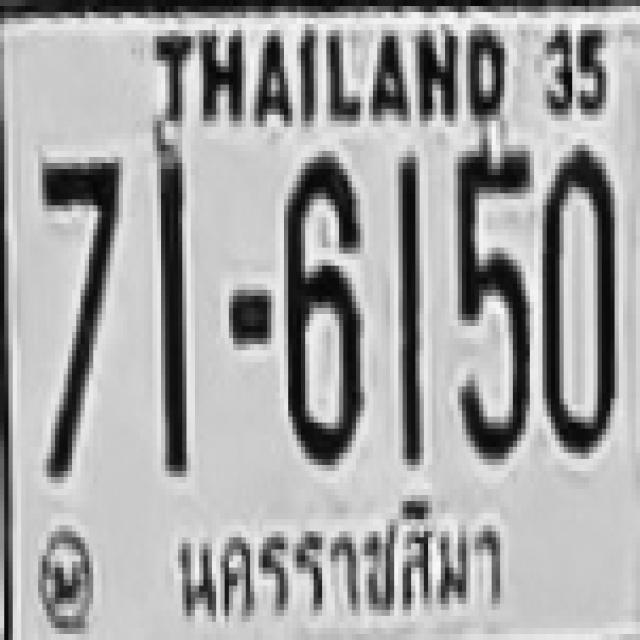0: (538, 142, 615, 450)
5: (454, 145, 526, 453)
6: (282, 151, 358, 459)
7: (38, 157, 119, 459), (38, 157, 119, 417), (38, 157, 119, 380), (38, 157, 119, 350)
NakhonRatchasima: (170, 494, 510, 630)
